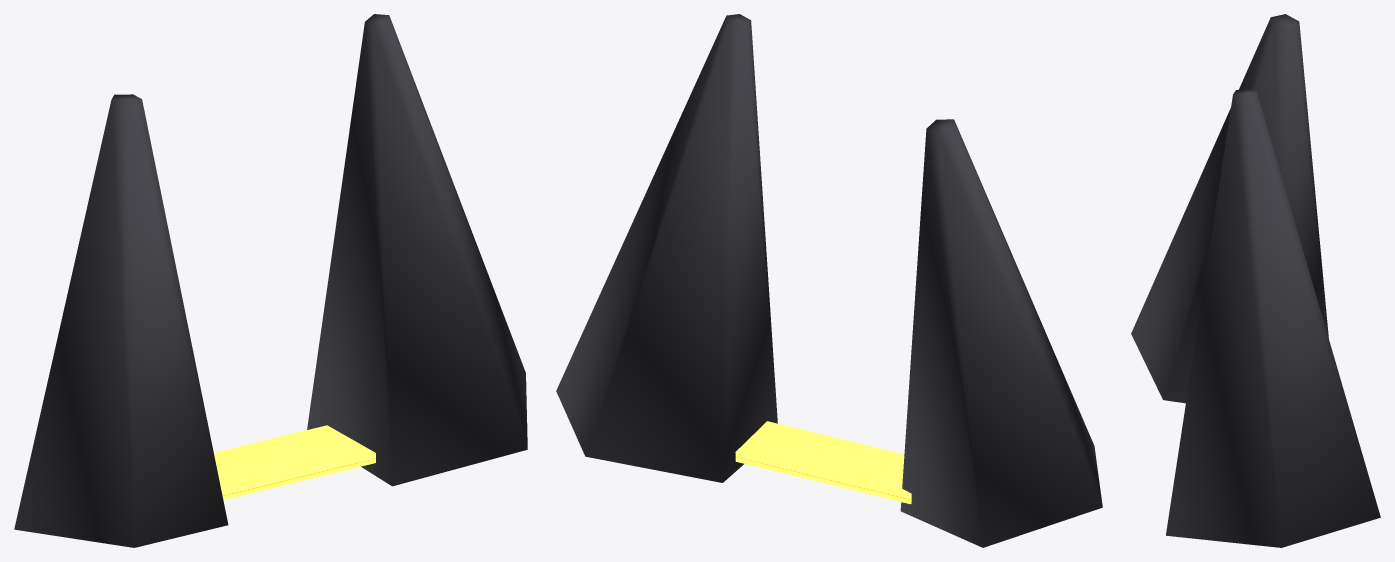
The model's file is rock_obsidian_canyon_gate.glb.
3 views of the same model, side by side, from view 1: azimuth 30°, elevation 25°; view 2: azimuth 150°, elevation 25°; view 3: azimuth 270°, elevation 25° (orthographic). The views are drawn at different scales.
Parts seen in each view (by area): view 1: Obsidian_Spire_Right, Obsidian_Spire_Left, Lava_Seam_Passage; view 2: Obsidian_Spire_Right, Obsidian_Spire_Left, Lava_Seam_Passage; view 3: Obsidian_Spire_Right, Obsidian_Spire_Left.
Part boxes in pixels (x1,y1,x2,y2): Obsidian_Spire_Right: [307, 14, 527, 486]; Obsidian_Spire_Left: [14, 94, 228, 547]; Lava_Seam_Passage: [214, 425, 375, 499]; Obsidian_Spire_Right: [556, 14, 777, 482]; Obsidian_Spire_Left: [900, 119, 1102, 547]; Lava_Seam_Passage: [735, 421, 911, 504]; Obsidian_Spire_Right: [1166, 88, 1380, 547]; Obsidian_Spire_Left: [1131, 14, 1328, 403].
Size of the model in its own units: 22.79 by 18.03 by 9.87.
